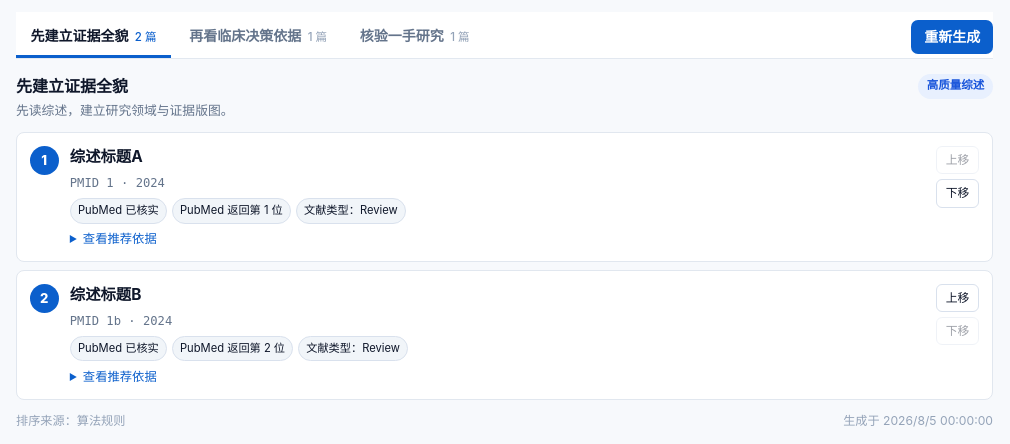
Test: ReadingPlan › shows chapter index and renders the active chapter sequence
Check: the button with class "generate-button" reads "重新生成", box [911,20,993,54]
Check: the header with class "chapter-header" shows "高质量综述", box [927,78,984,92]
# 标题未提供时如实显示，不虚构标题（切到原始研究分类）。
Step 1. Click the button "核验一手研究 1 篇" → (415, 37), box [345,15,484,58]
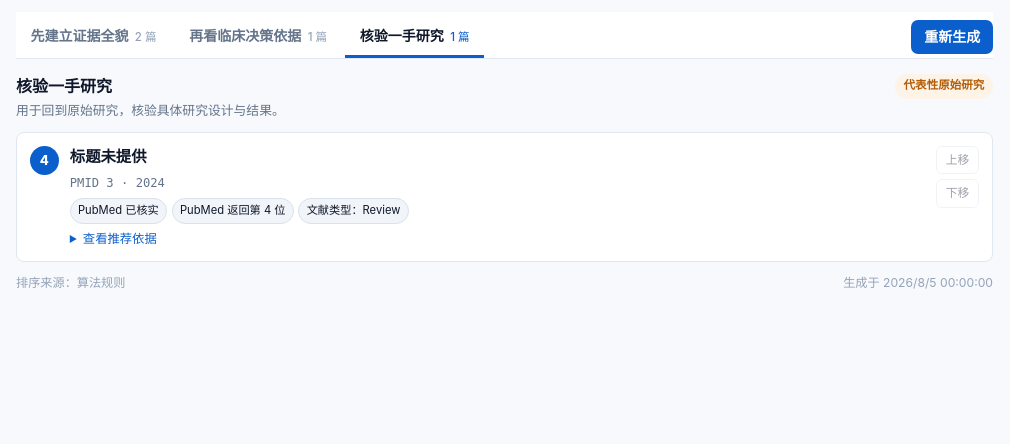
Check: the header with class "chapter-header" shows "代表性原始研究", box [904,78,984,92]
Check: the text "标题未提供" is shown, box [70,147,147,166]
